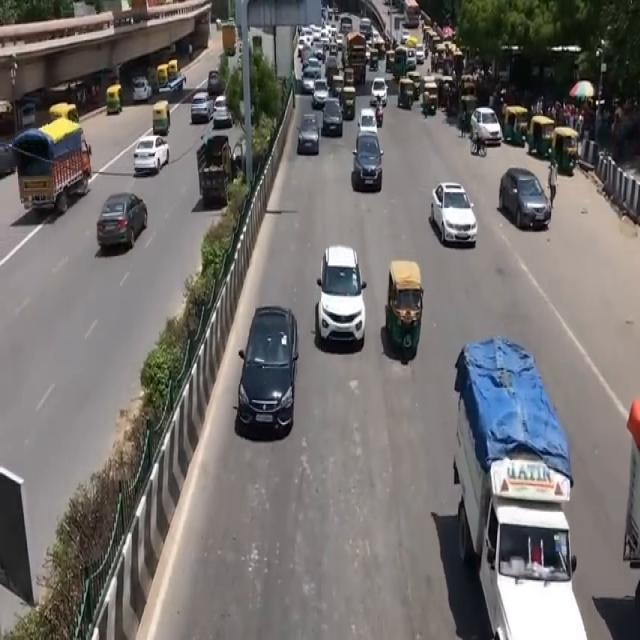TRUCK: (452, 346, 586, 640), (18, 120, 93, 224)
